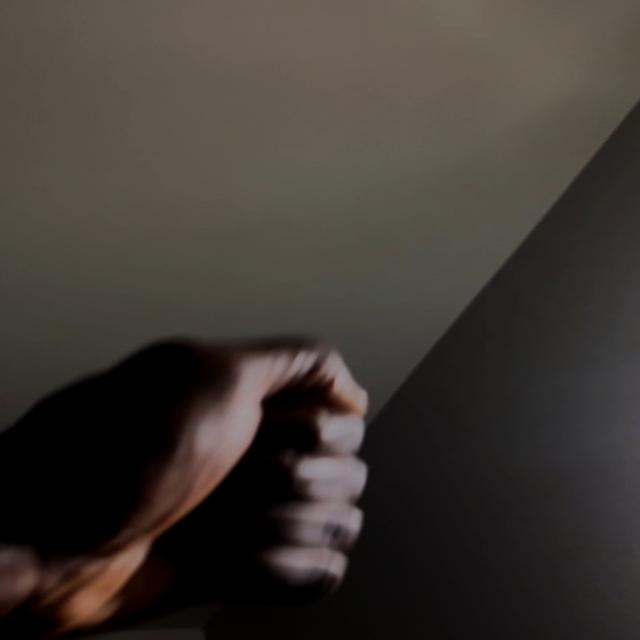Rock: (0, 332, 369, 640)
